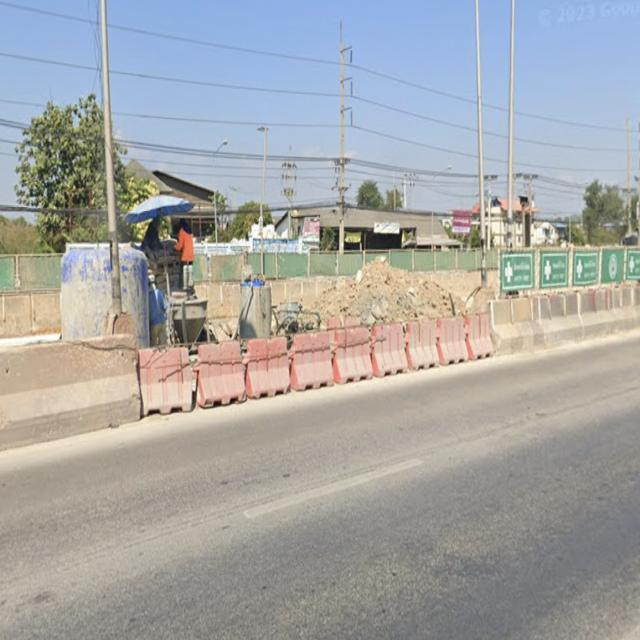fallen_object: (126, 329, 257, 413), (230, 327, 352, 395), (319, 307, 420, 387), (395, 306, 502, 373)
